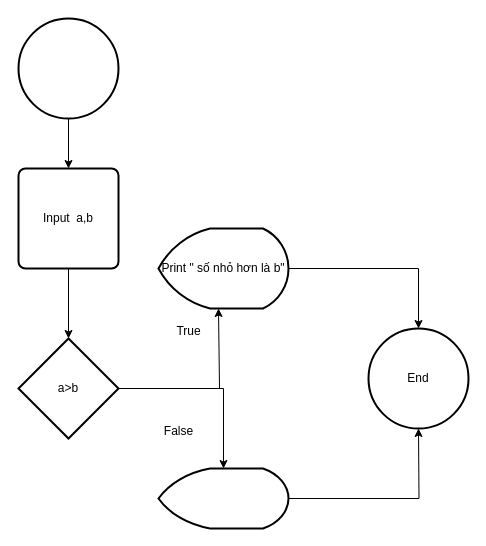
This 486x546 diagram has some shape labels left out. Each missing label, with the centre of its shape:
Print "Số nhỏ hơn là a": the point at 223,498
START: the point at 68,68
